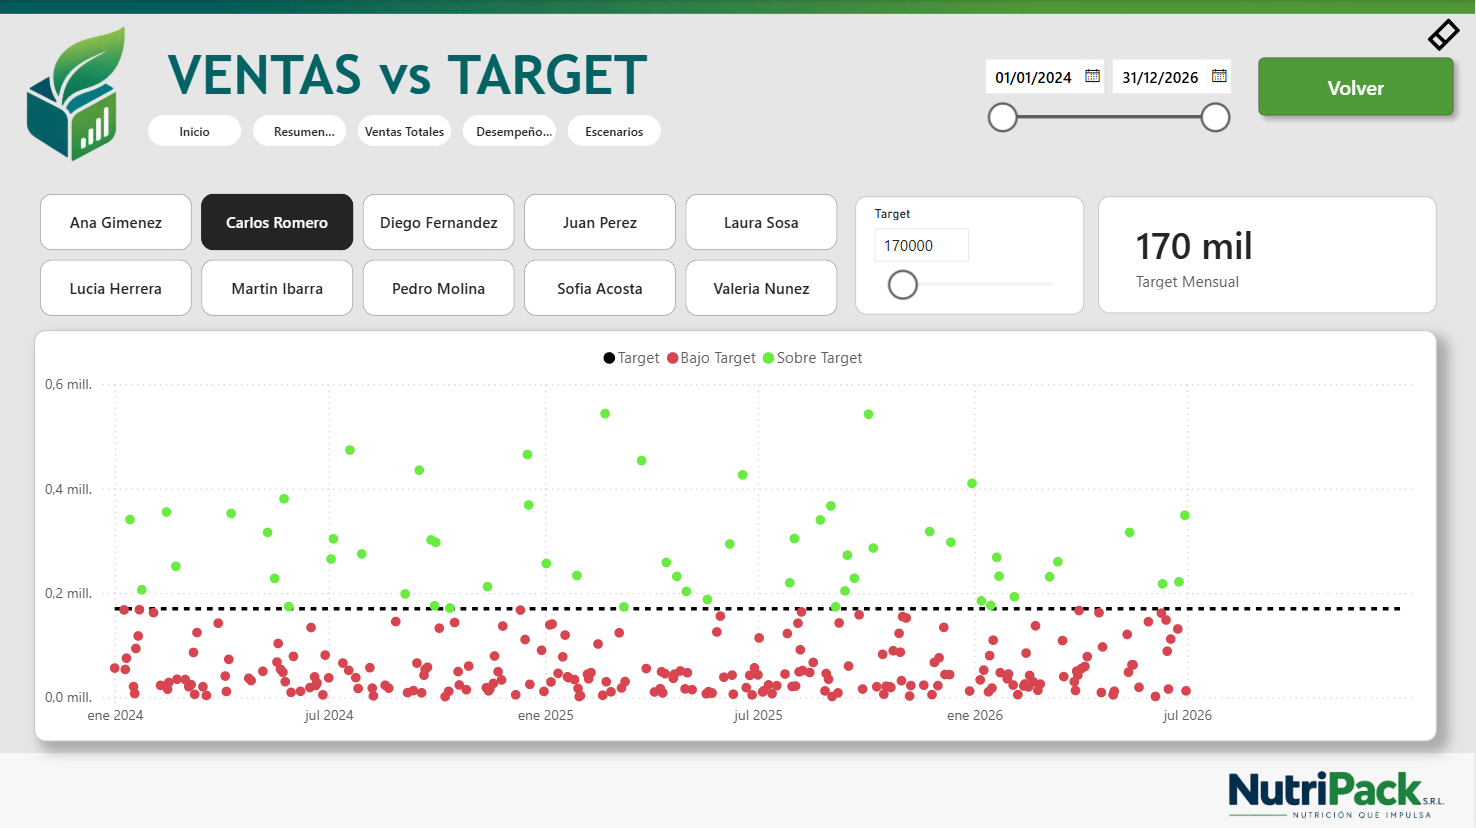

The dashboard page shown, as its layout file describes it:
{"tool":"powerbi","page":{"name":"Escenarios 2","canvas":[1280,720],"ordinal":5},"visuals":[{"type":"shape","box":[0,653.6,1280,66.4],"z":0},{"type":"slicer","fields":{"Values":["Calendario.Date"]},"box":[842.3,41,234.1,91],"z":1000},{"type":"pageNavigator","box":[129.3,99.8,447.6,27.8],"z":2000},{"type":"textbox","box":[131.9,31.2,445,68.5],"z":3000},{"type":"image","box":[15,20.3,94.5,123.7],"z":4000},{"type":"image","box":[1067,664.7,187.3,50],"z":5000},{"type":"image","box":[0,0,1280.9,12],"z":6000},{"type":"slicer","fields":{"Values":["prm.TargetVentas.prm.TargetVentas"]},"box":[742.6,170,198.7,103.2],"z":7000},{"type":"lineChart","fields":{"Category":["Calendario.Date"],"Y":["prm.TargetVentas.Valor de prm.TargetVentas","Ventas.(M) Ventas Bajo Target","Ventas.(M) Ventas Sobre Target"]},"box":[30.4,286.3,1217.1,356.5],"z":8000},{"type":"cardVisual","fields":{"Data":["prm.TargetVentas.Valor de prm.TargetVentas"]},"box":[953.3,170,294.1,102.4],"z":9000},{"type":"advancedSlicerVisual","fields":{"Values":["Seguridad.Vendedor"]},"box":[30.4,163.1,706.1,117.1],"z":10000},{"type":"actionButton","box":[1083.5,41,187.4,68.5],"z":11000},{"type":"actionButton","box":[1235.5,11.8,44.5,36.4],"z":12000}]}

Visuals, with their boxes in screenshot pixels (x1, y1, x2, y2), scaled from the page's 1280x720 canvas onto the 1476x828 screenshot:
shape: {"left": 0, "top": 752, "right": 1475, "bottom": 827}
slicer - Calendario.Date: {"left": 971, "top": 47, "right": 1241, "bottom": 152}
pageNavigator: {"left": 149, "top": 115, "right": 665, "bottom": 147}
textbox: {"left": 152, "top": 36, "right": 665, "bottom": 115}
image: {"left": 17, "top": 23, "right": 126, "bottom": 166}
image: {"left": 1230, "top": 764, "right": 1446, "bottom": 822}
image: {"left": 0, "top": 0, "right": 1475, "bottom": 14}
slicer - prm.TargetVentas.prm.TargetVentas: {"left": 856, "top": 195, "right": 1085, "bottom": 314}
lineChart - Calendario.Date x prm.TargetVentas.Valor de prm.TargetVentas: {"left": 35, "top": 329, "right": 1439, "bottom": 739}
cardVisual - prm.TargetVentas.Valor de prm.TargetVentas: {"left": 1099, "top": 195, "right": 1438, "bottom": 313}
advancedSlicerVisual - Seguridad.Vendedor: {"left": 35, "top": 188, "right": 849, "bottom": 322}
actionButton: {"left": 1249, "top": 47, "right": 1466, "bottom": 126}
actionButton: {"left": 1425, "top": 14, "right": 1475, "bottom": 55}
